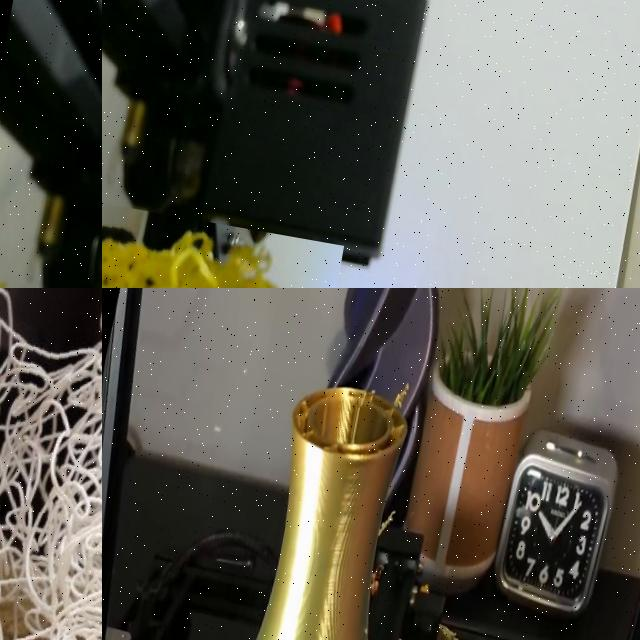spaghetti: (0, 288, 102, 640), (102, 235, 269, 288), (388, 378, 412, 407)
